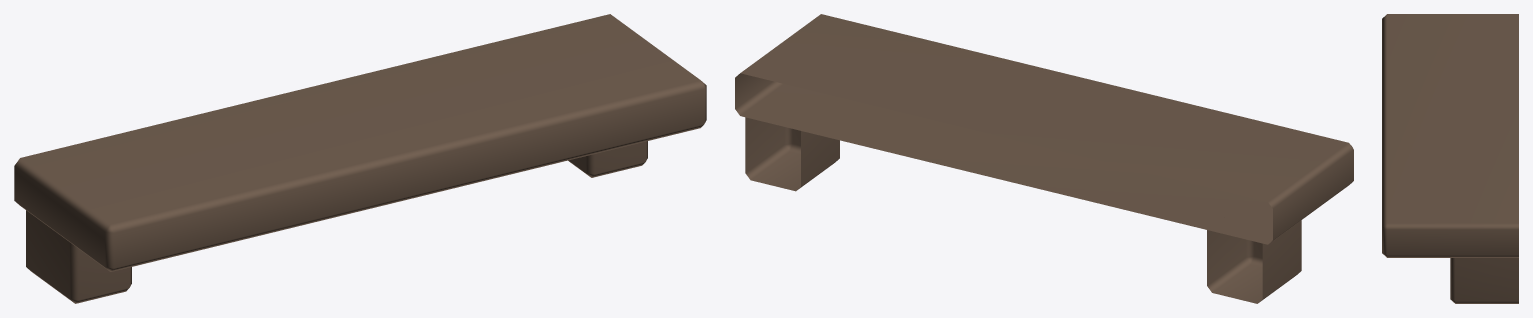
Rendered from Shelf_11.glb.
3 renders of one model, left to right at view 1: azimuth 30°, elevation 25°; view 2: azimuth 150°, elevation 25°; view 3: azimuth 270°, elevation 25°, orthographic. The views are drawn at different scales.
Visible parts, largest first — view 1: Shelf_11; view 2: Shelf_11; view 3: Shelf_11.
Part boxes in pixels (x1,y1,x2,y2): Shelf_11: [14, 14, 706, 303]; Shelf_11: [735, 14, 1353, 303]; Shelf_11: [1382, 14, 1518, 303].
Bounding box in the file's own units: 1.39 × 0.2574 × 0.3754.
Materials: 1 (1 with a texture image).
